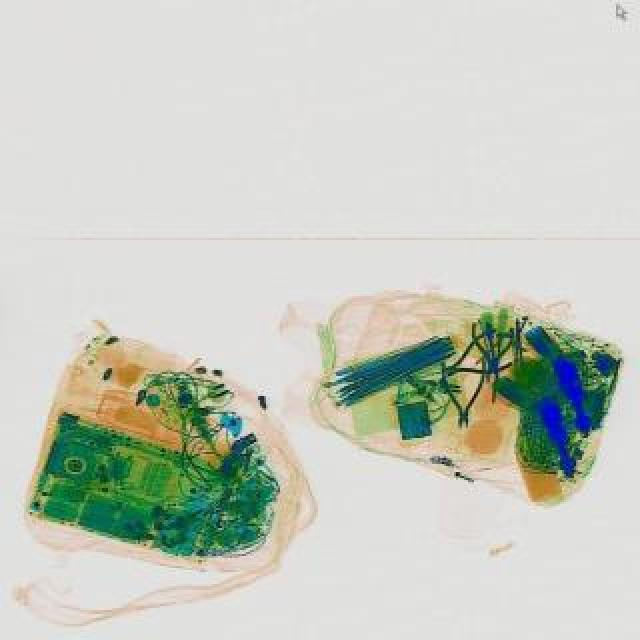wrench: (430, 326, 514, 390), (466, 320, 514, 404), (438, 356, 486, 428)
